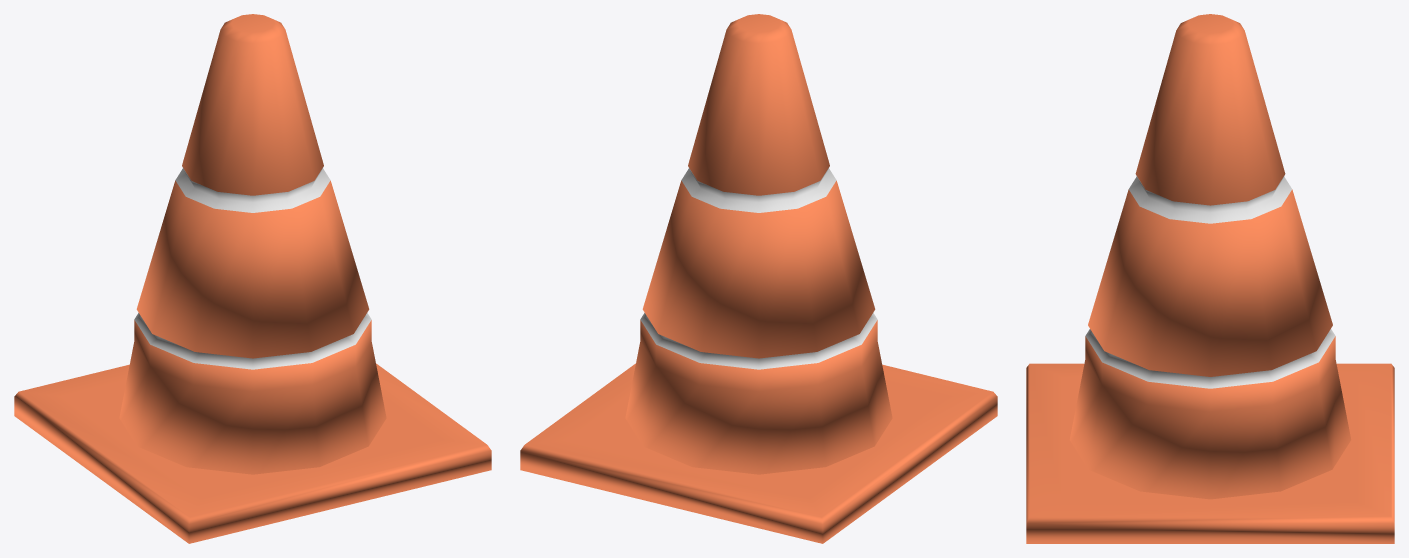
The picture shows the model from 3 angles, left to right: view 1: azimuth 30°, elevation 25°; view 2: azimuth 150°, elevation 25°; view 3: azimuth 270°, elevation 25°; orthographic projection. The views are drawn at different scales.
Parts seen in each view (by area): view 1: Cube; view 2: Cube; view 3: Cube.
Boxes of the visible parts, left/top/right/bottom form: Cube: left=14, top=14, right=491, bottom=543; Cube: left=520, top=14, right=997, bottom=543; Cube: left=1026, top=14, right=1394, bottom=543.
Size of the model in its own units: 200 by 265 by 200.
